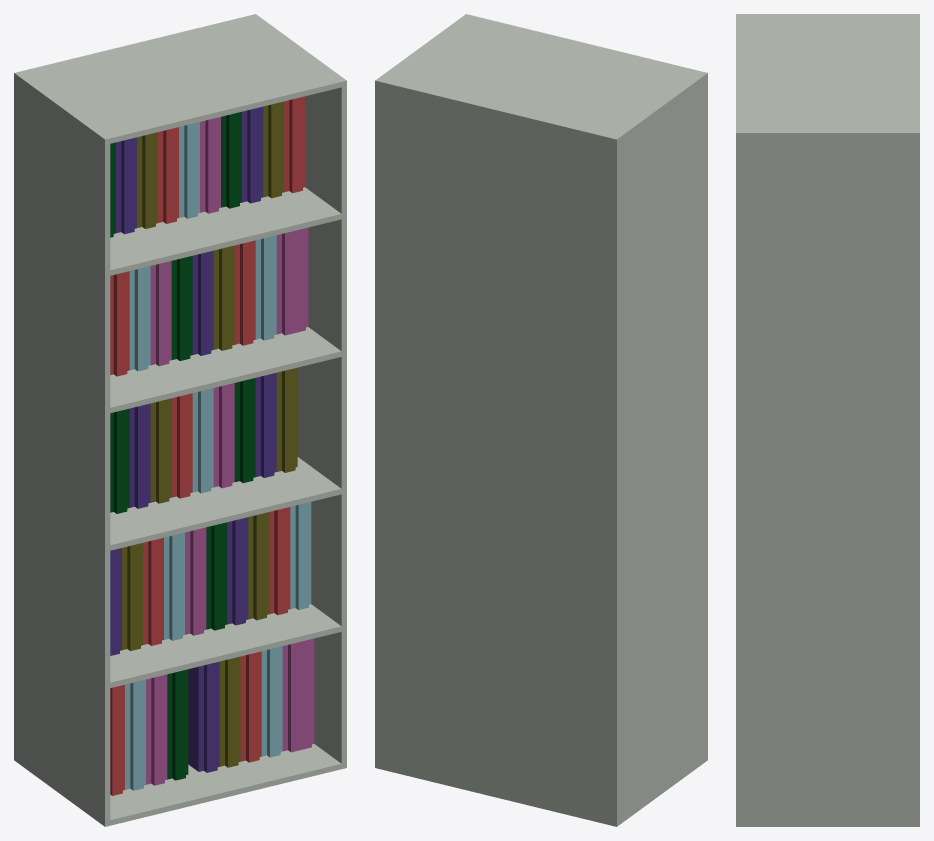
The model's file is Bookshelf3.fbx.
3 views of the same model, side by side, from view 1: azimuth 30°, elevation 25°; view 2: azimuth 150°, elevation 25°; view 3: azimuth 270°, elevation 25° (orthographic).
Parts seen in each view (by area): view 1: Bookshelf3; view 2: Bookshelf3; view 3: Bookshelf3.
Part boxes in pixels (x1,y1,x2,y2): Bookshelf3: [14, 14, 346, 826]; Bookshelf3: [375, 14, 707, 826]; Bookshelf3: [736, 14, 919, 826].
Bounding box in the file's own units: 4.6 × 12.5 × 3.
